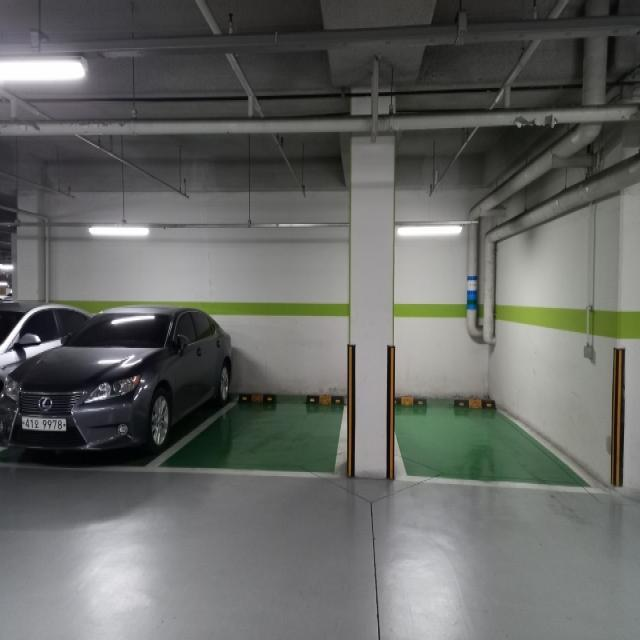empty: (384, 369, 606, 490), (138, 387, 363, 473)
occupied: (2, 304, 232, 462)
